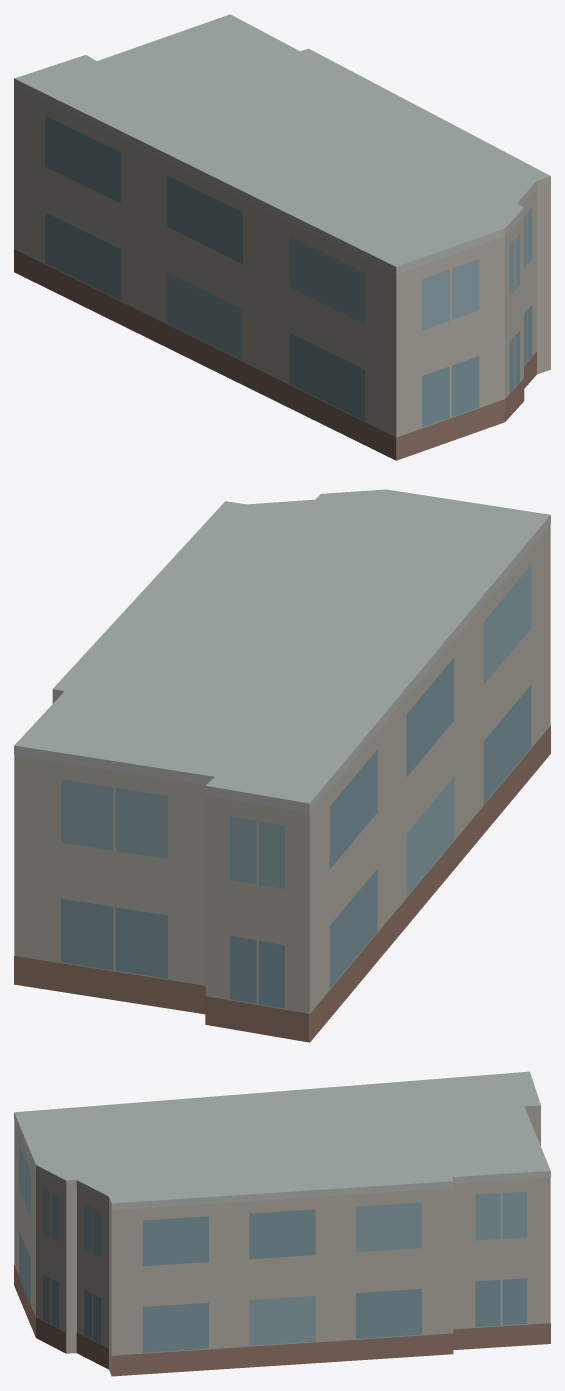
File: survey-upis-32843280.glb
The picture shows the model from 3 angles, top to bottom: view 1: azimuth 30°, elevation 25°; view 2: azimuth 150°, elevation 25°; view 3: azimuth 270°, elevation 25°; orthographic projection. The views are drawn at different scales.
Visible parts, largest first — view 1: survey-upis-32843280.tmp; view 2: survey-upis-32843280.tmp; view 3: survey-upis-32843280.tmp.
Part boxes in pixels (x1,y1,x2,y2): survey-upis-32843280.tmp: (14,14,550,460); survey-upis-32843280.tmp: (14,489,550,1042); survey-upis-32843280.tmp: (14,1071,550,1376).
Size of the model in its own units: 9.98 by 6.1 by 17.16.
